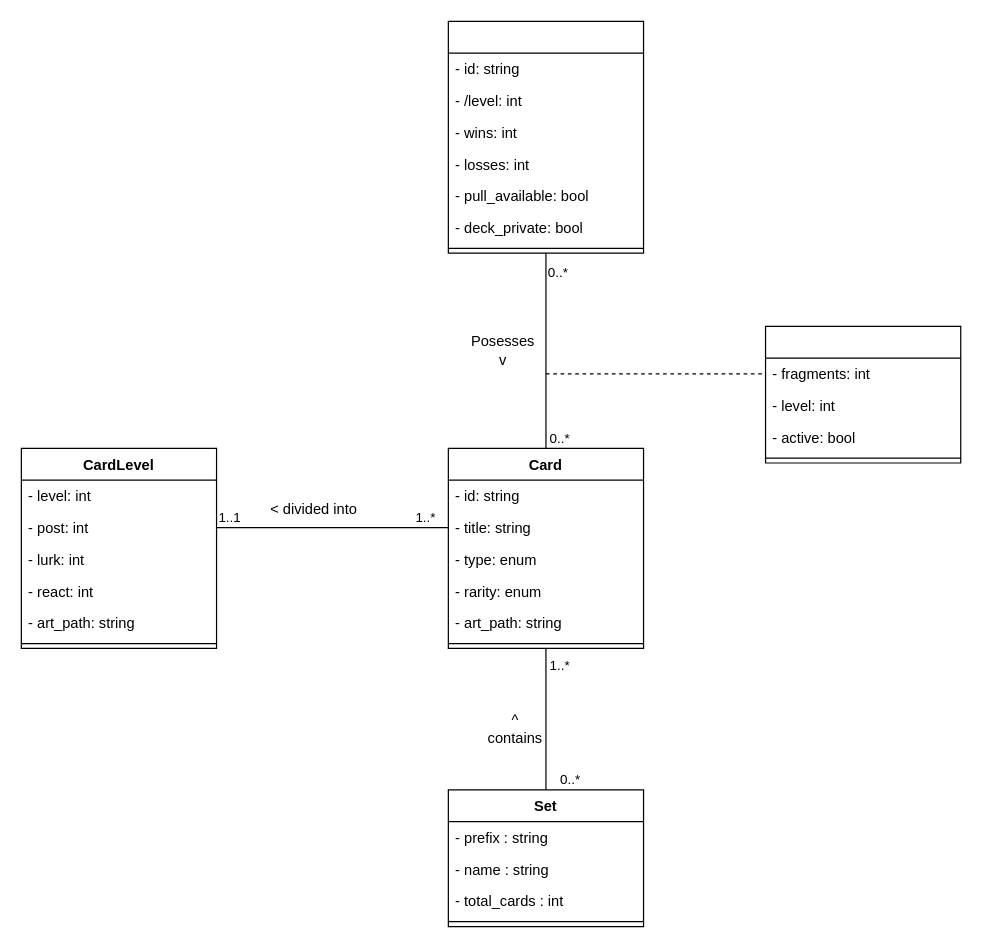
Some shapes in this 982 by 948 pixel diagram are drawn without their labels. Here are the shapes that lost their labels. From the top down, the box of each, then its label:
(447, 20, 644, 253): User
(764, 325, 961, 463): CardInstance
